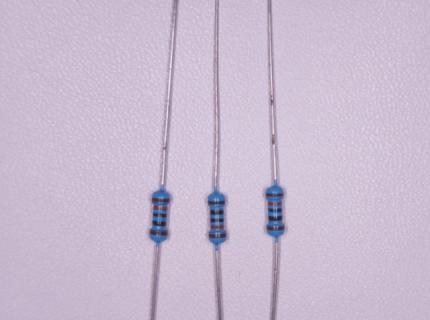Black band: (153, 220, 167, 227), (268, 216, 282, 221), (268, 208, 282, 213), (153, 213, 166, 218), (210, 210, 223, 215), (211, 218, 224, 223)
Brown band: (150, 230, 168, 236), (152, 197, 169, 202), (210, 233, 226, 238), (266, 193, 284, 197), (208, 201, 225, 205), (267, 226, 284, 230)
Orange band: (154, 206, 167, 211), (268, 201, 281, 206), (210, 225, 224, 229)
